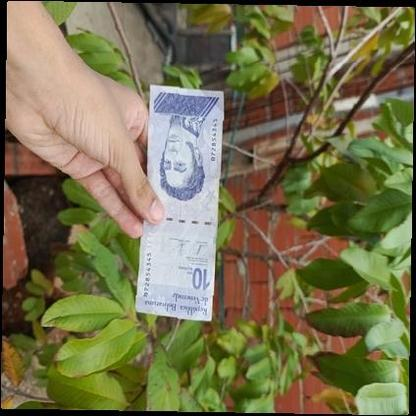vef_front: (134, 84, 226, 322)
